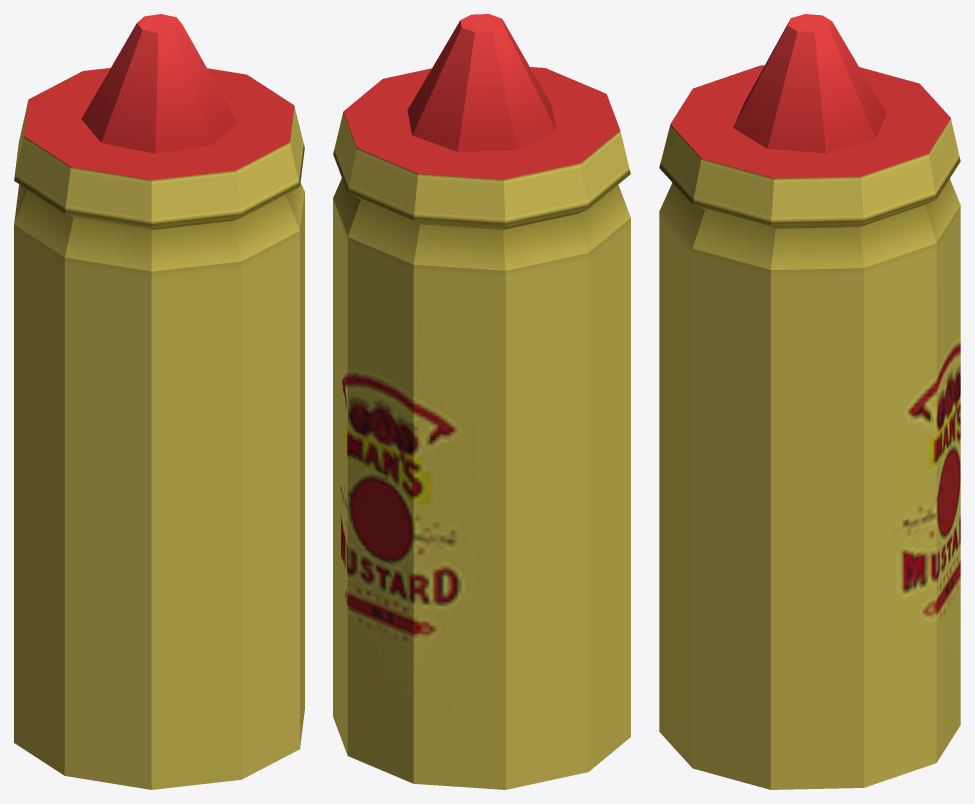
The model's file is P_Mustard.fbx.
The picture shows the model from 3 angles, left to right: view 1: azimuth 30°, elevation 25°; view 2: azimuth 150°, elevation 25°; view 3: azimuth 270°, elevation 25°; orthographic projection.
Parts seen in each view (by area): view 1: Empty_Mesh; view 2: Empty_Mesh; view 3: Empty_Mesh.
Boxes of the visible parts, left/top/right/bottom form: Empty_Mesh: left=14, top=14, right=304, bottom=789; Empty_Mesh: left=333, top=14, right=630, bottom=789; Empty_Mesh: left=659, top=14, right=960, bottom=789.
Size of the model in its own units: 0.0966 by 0.2576 by 0.0999.
